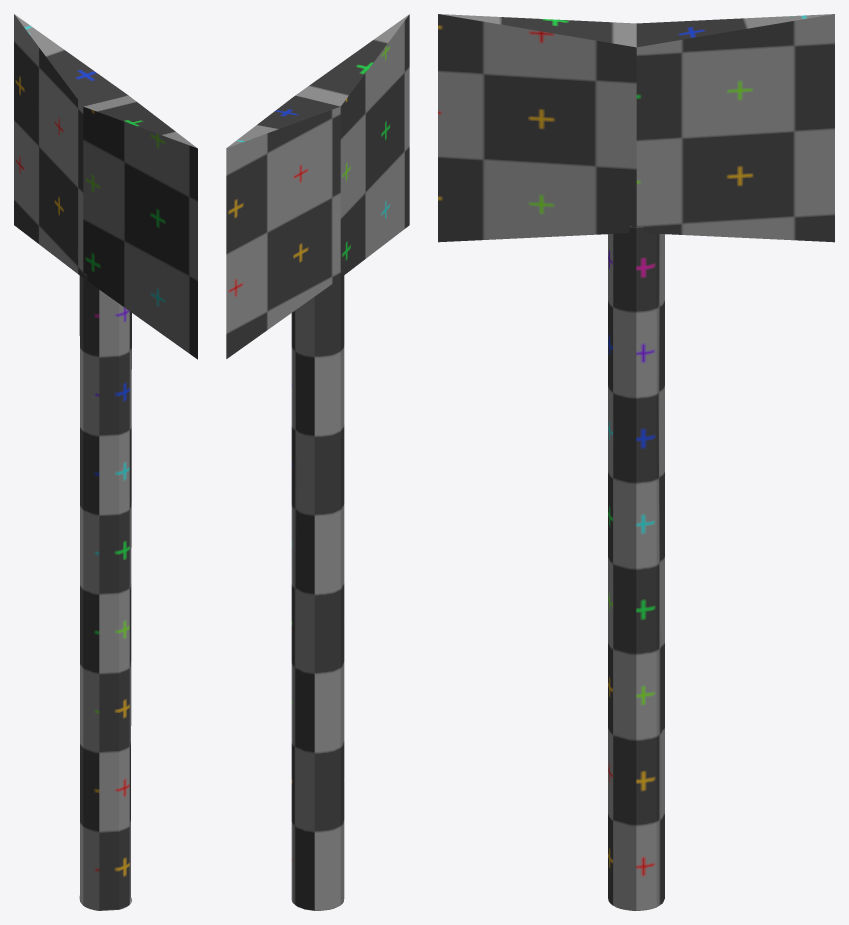
The model's file is axe.glb.
The picture shows the model from 3 angles, left to right: view 1: azimuth 30°, elevation 25°; view 2: azimuth 150°, elevation 25°; view 3: azimuth 270°, elevation 25°; orthographic projection. The views are drawn at different scales.
Parts seen in each view (by area): view 1: Cylinder; view 2: Cylinder; view 3: Cylinder.
Part boxes in pixels (<box>): Cylinder: <box>14,14,197,910</box>; Cylinder: <box>226,14,409,910</box>; Cylinder: <box>438,14,834,910</box>.
Size of the model in its own units: 0.0249 by 0.4284 by 0.1741.
Materials: 1 (1 with a texture image).
